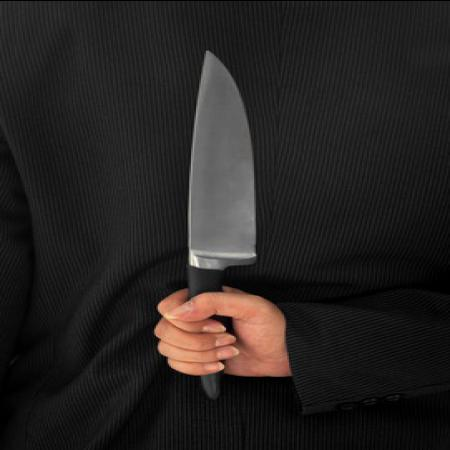long weapon: (151, 45, 284, 374)
